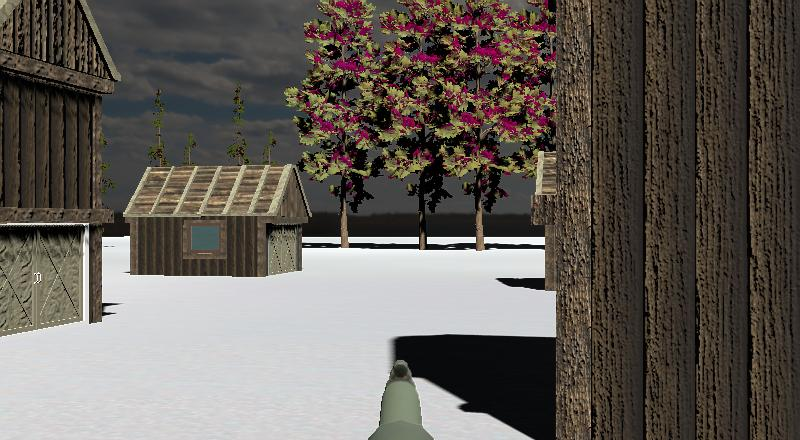House: (478, 5, 798, 440), (524, 0, 800, 440), (0, 0, 134, 356), (107, 143, 332, 312)
